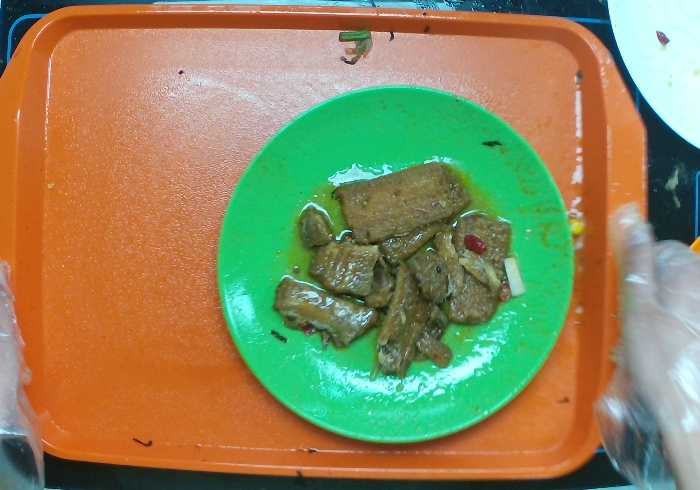HZYJPL-Lv_Se_Yuan_Pan: (210, 80, 582, 448)
